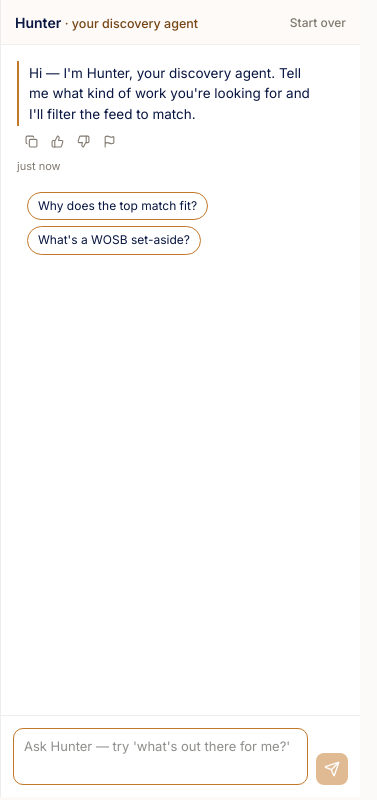
Scenario: V6(c) a real turn still posts its feedback to the backend › rates Hunter's own reply against its turnId, not the composer
The width and height of the screenshot is (377, 800).
Step 1. Type "what's out there?" into the text box with placeholder "Ask Hunter — try 'what's out there for me?'" → [160, 756], box x1=13 y1=728 x2=308 y2=785
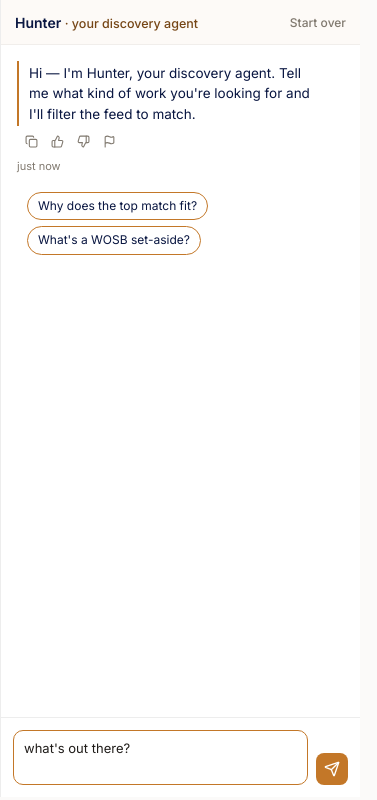
Step 2. Click the button named "Send" → [332, 769], box x1=316 y1=753 x2=348 y2=785
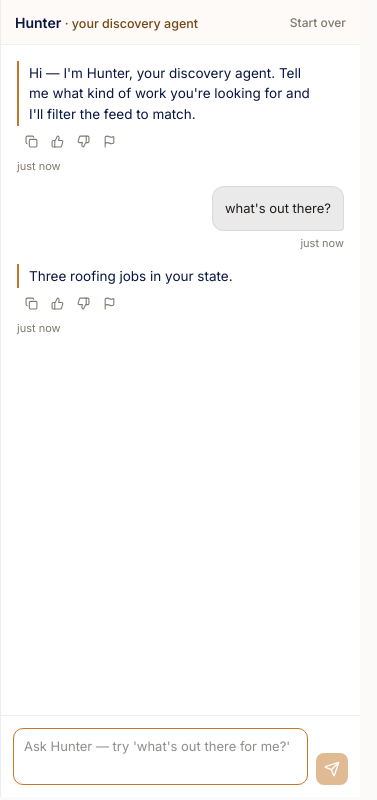
Now the number of buttons named "Not helpful" is 2
// The reply's own row is the second one — the seed keeps the first.
Step 3. Click the button named "Not helpful" below "Three roofing jobs in your state." → [83, 304], box x1=71 y1=292 x2=95 y2=316
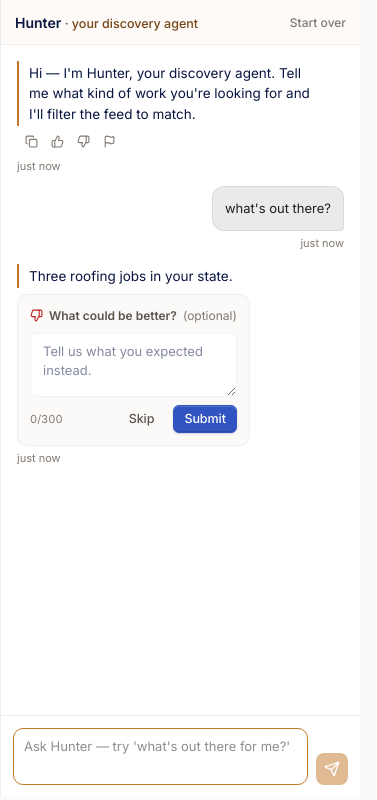
Now the button "Submit" is shown, box x1=173 y1=405 x2=237 y2=433
